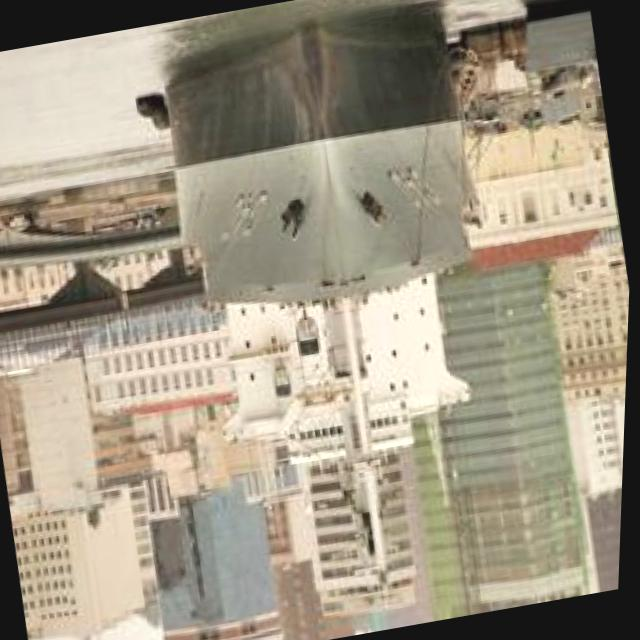ship2: (164, 14, 477, 593)
